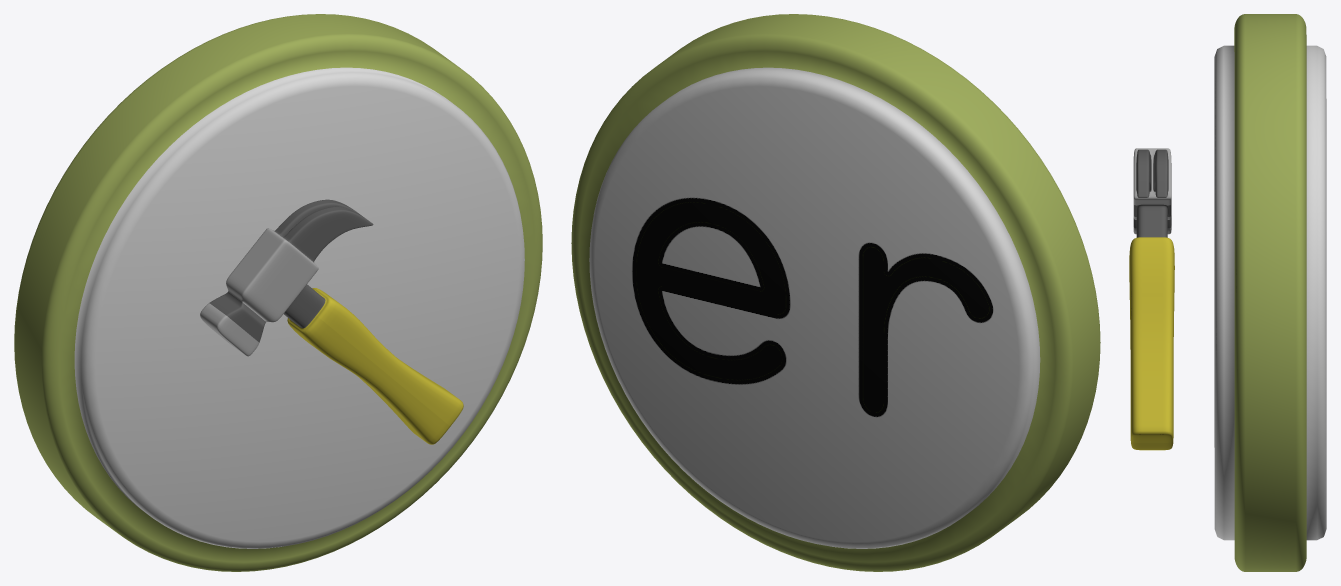
The model's file is hammer2.gltf.
3 views of the same model, side by side, from view 1: azimuth 30°, elevation 25°; view 2: azimuth 150°, elevation 25°; view 3: azimuth 270°, elevation 25° (orthographic). The views are drawn at different scales.
Visible parts, largest first — view 1: coin, Cube; view 2: coin; view 3: coin, Cube.
Part boxes in pixels (x1,y1,x2,y2): coin: (14, 14, 542, 571); Cube: (200, 199, 463, 444); coin: (571, 14, 1100, 571); coin: (1214, 14, 1326, 571); Cube: (1129, 148, 1174, 450).
Size of the model in its own units: 2.56 by 2.56 by 0.9041.
Materials: 7 (1 with a texture image).
